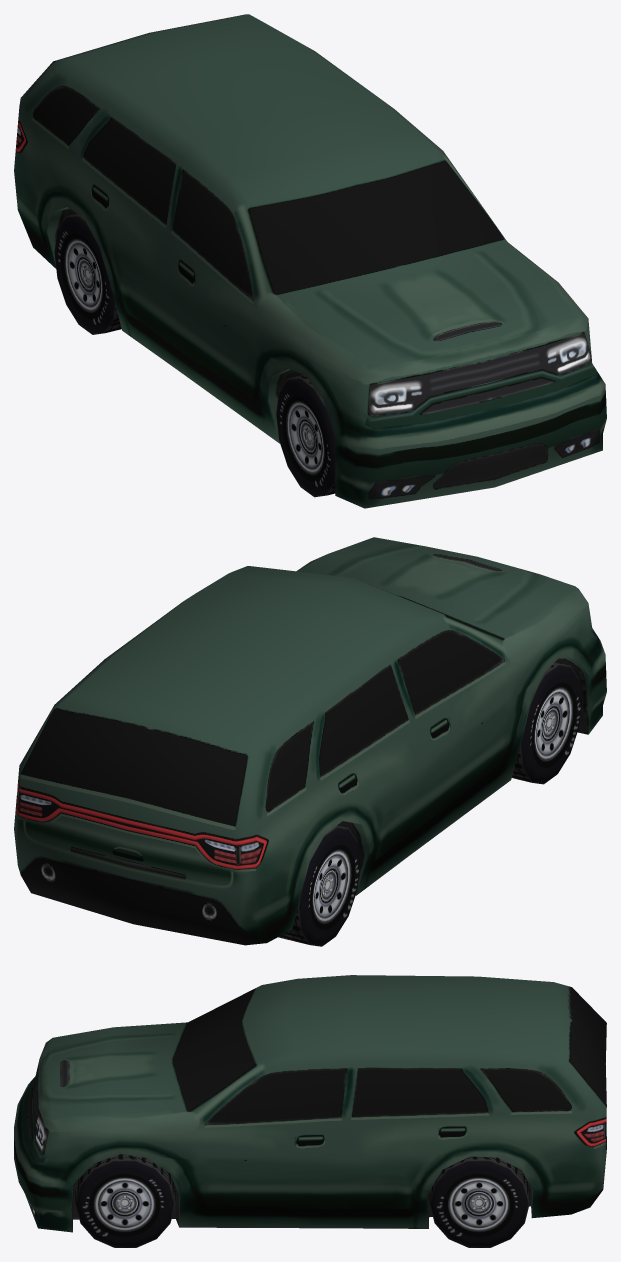
The model's file is SUV.fbx.
3 renders of one model, top to bottom at view 1: azimuth 30°, elevation 25°; view 2: azimuth 150°, elevation 25°; view 3: azimuth 270°, elevation 25°, orthographic. The views are drawn at different scales.
Visible parts, largest first — view 1: SUVBody, WheelFR, WheelBR; view 2: SUVBody, WheelBR, WheelFR; view 3: SUVBody, WheelFL, WheelBL.
Part boxes in pixels (x1,y1,x2,y2): SUVBody: (14,14,606,508); WheelFR: (276,374,335,497); WheelBR: (54,213,121,334); SUVBody: (14,537,606,945); WheelBR: (278,825,360,946); WheelFR: (511,661,581,784); SUVBody: (14,975,606,1232); WheelFL: (75,1154,175,1247); WheelBL: (429,1156,529,1247).
Size of the model in its own units: 206 by 182 by 504.
